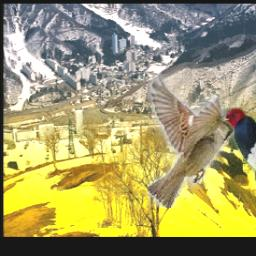Sparrow: (148, 75, 240, 209)
Woodpecker: (217, 108, 256, 189)
